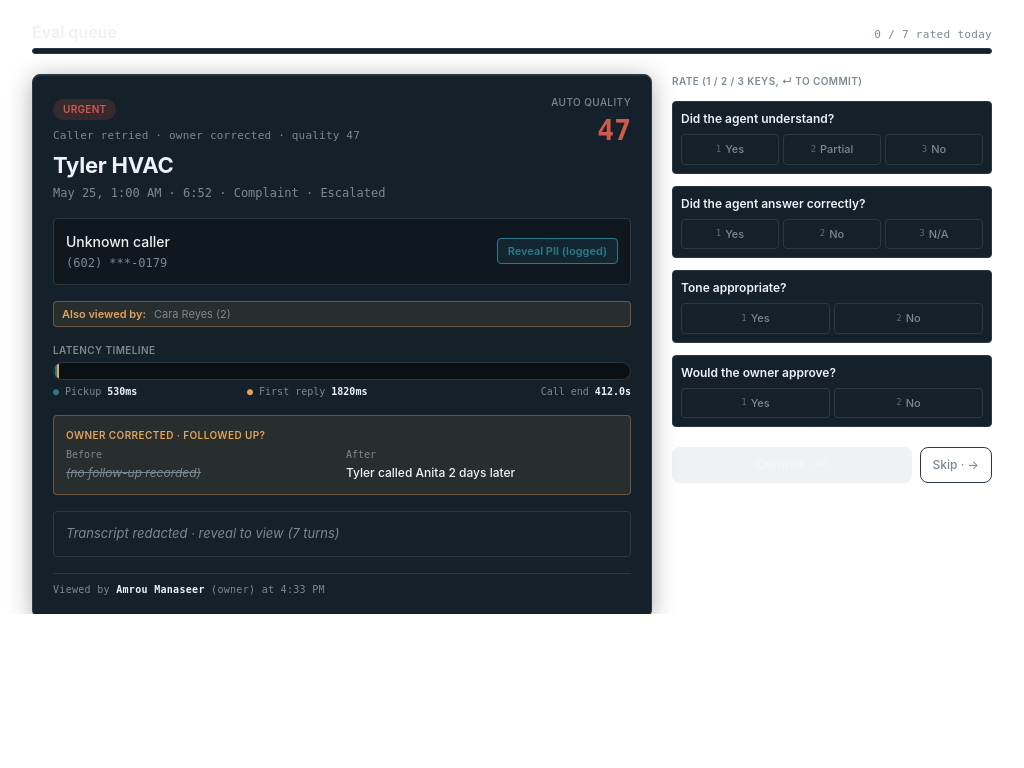
OpsEvalQueuePreview › Rubric — answer all 4 questions then submit › counter increments after a successful commit
What coordinates should you click on to do the following:
click the button "1 Yes" below "Did the agent understand?"
I would click on:
 (730, 149)
Its box is [681,134,779,164].
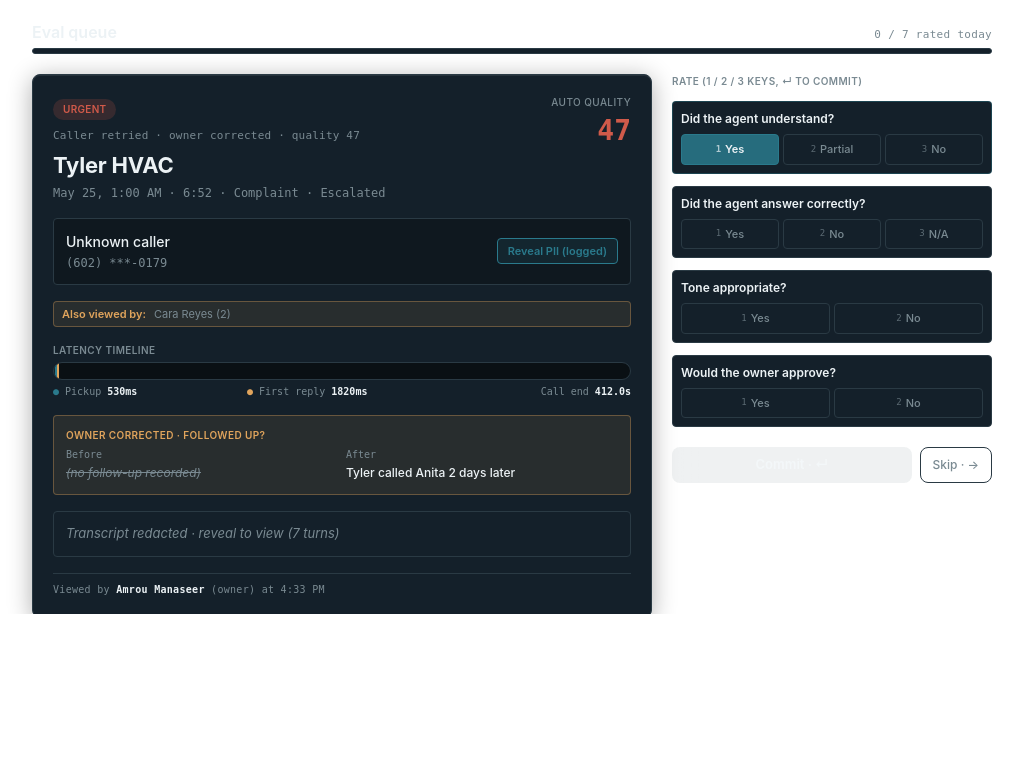
What coordinates should you click on to do the following:
click the button "1 Yes" below "Did the agent answer correctly?"
I would click on:
 (730, 234)
Its box is [681,218,779,249].
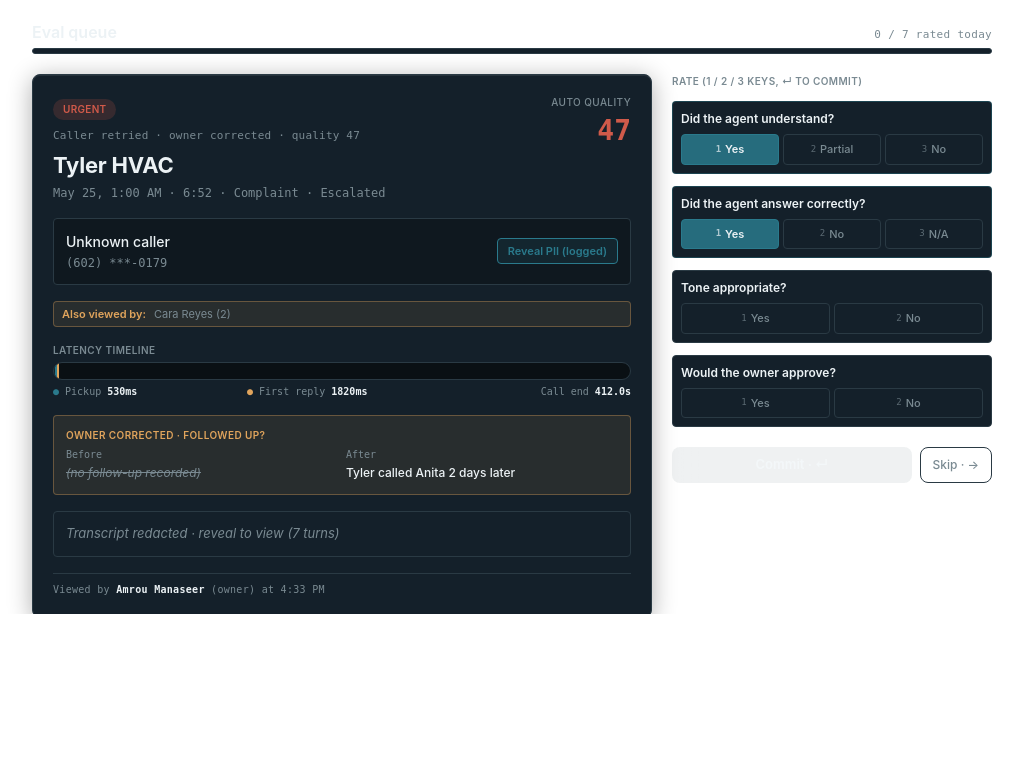
What coordinates should you click on to do the following:
click the button "1 Yes" below "Tone appropriate?"
I would click on:
 (756, 318)
Its box is [681,303,830,334].
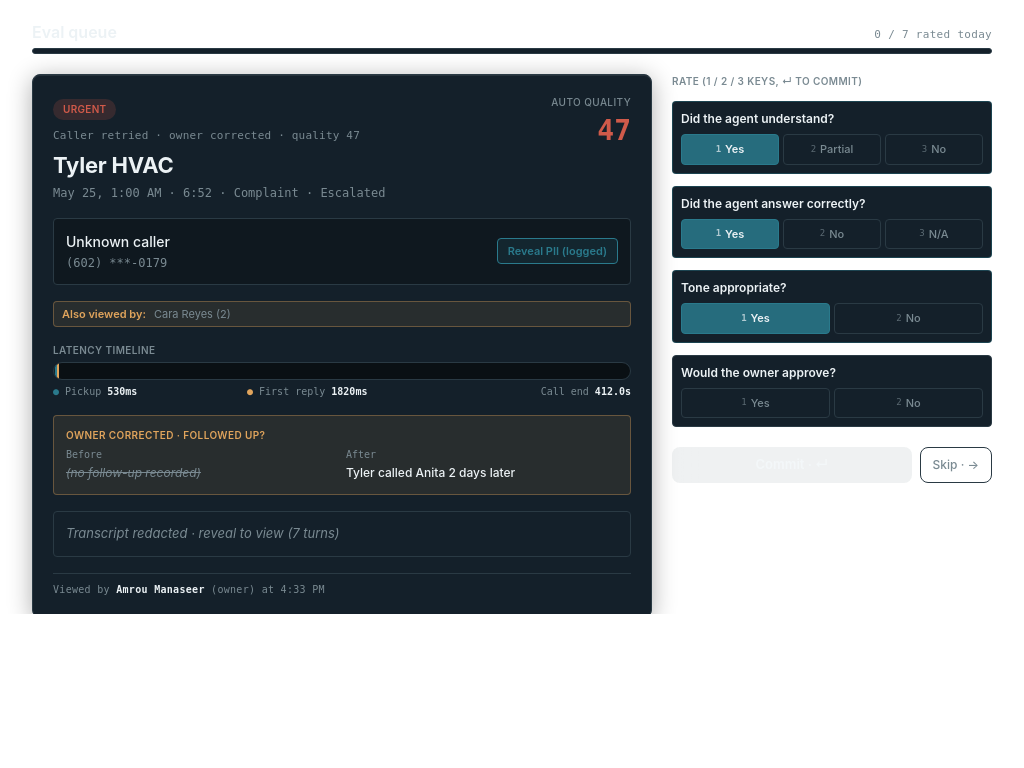
What coordinates should you click on to do the following:
click the button "1 Yes" below "Would the owner approve?"
I would click on:
 (756, 403)
Its box is [681,388,830,418].
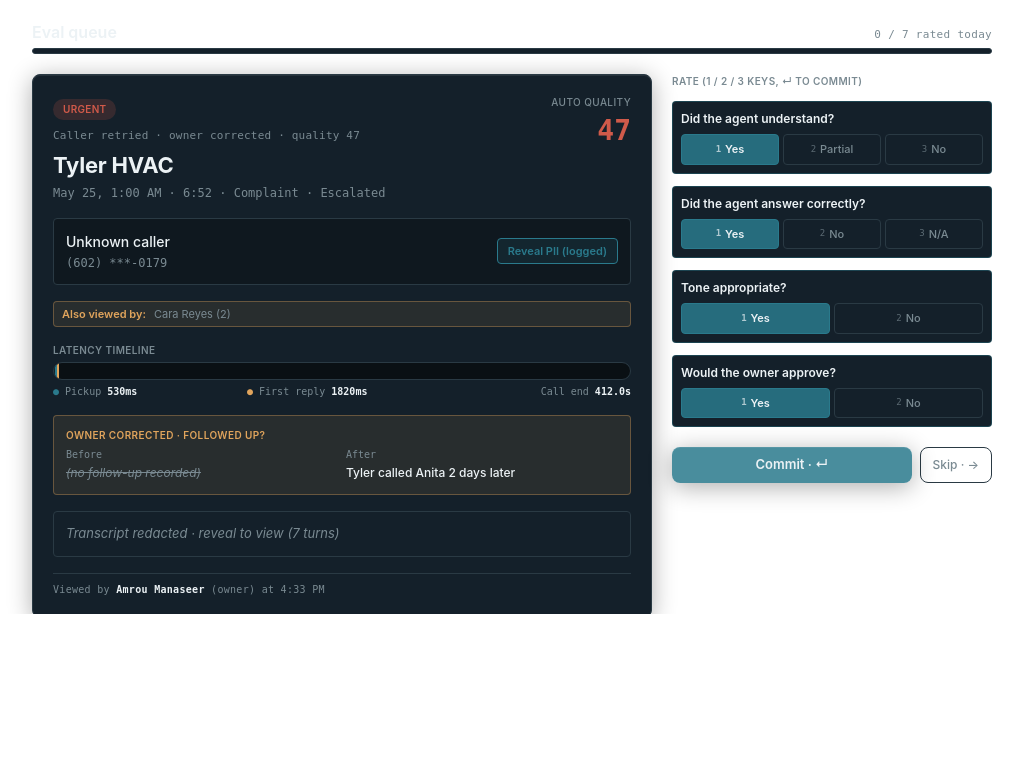
What coordinates should you click on to do the following:
click the button "Commit · ↵"
I would click on:
 (792, 465)
Its box is [672,447,912,483].
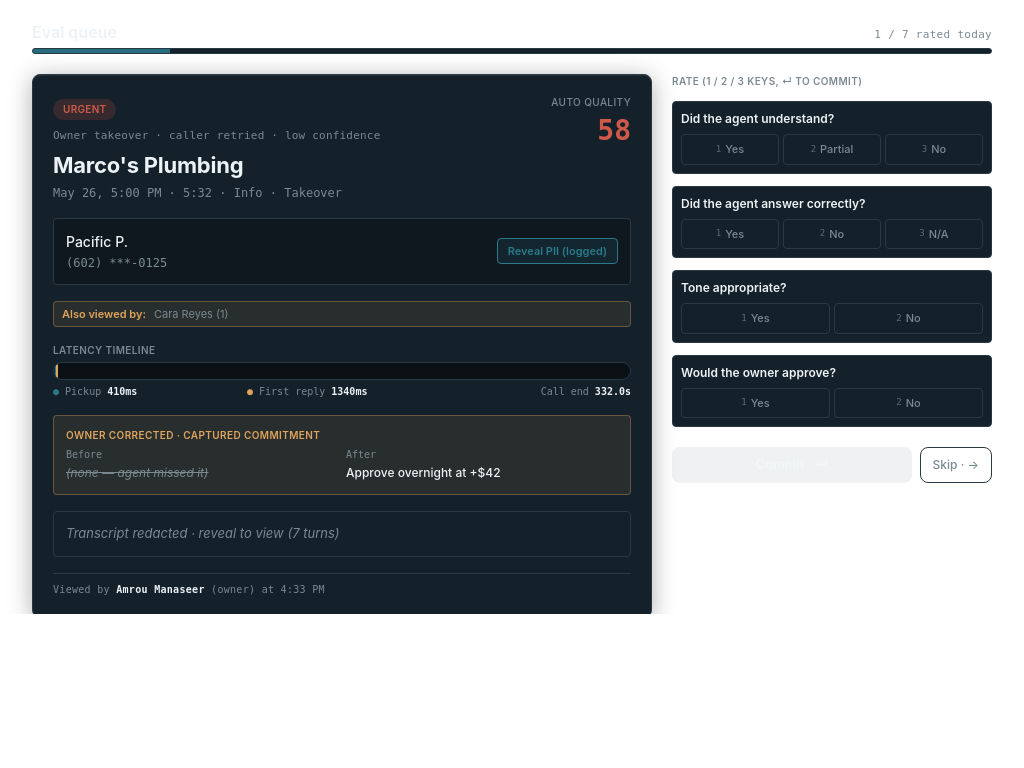
expect the text "1 / 7 rated today" is shown: met, box [874,27,992,44]
